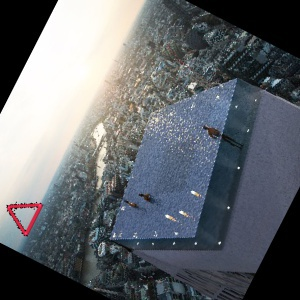triangle: (4, 200, 46, 236)
